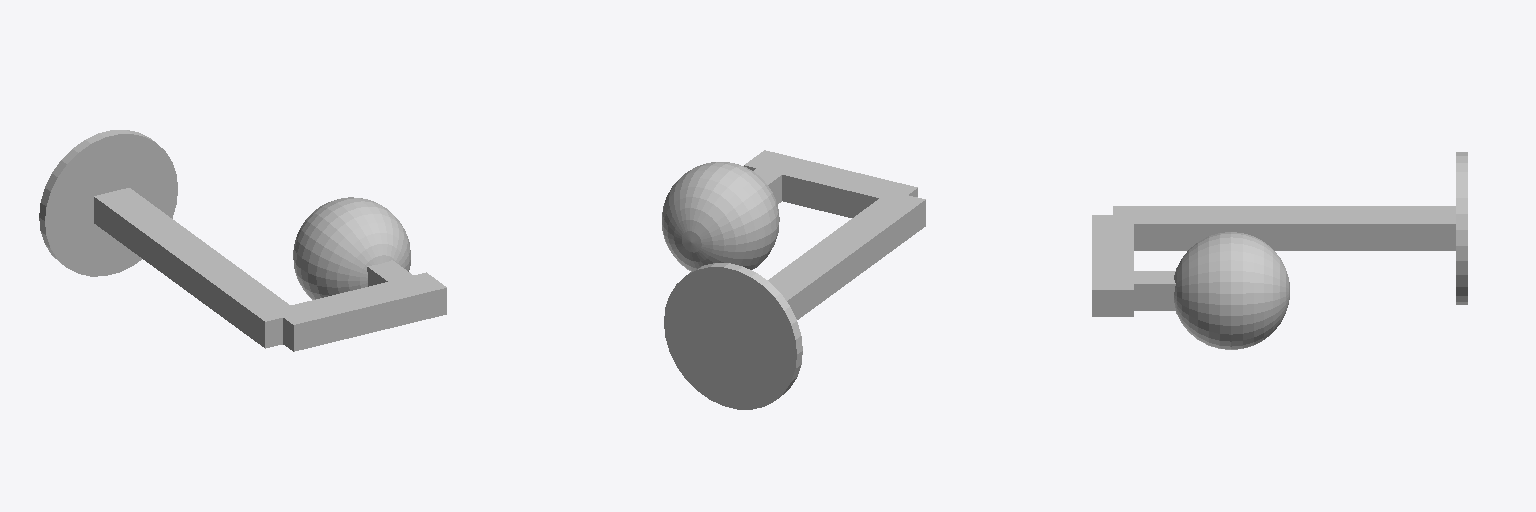
File: felinar.obj
3 renders of one model, left to right at view 1: azimuth 30°, elevation 25°; view 2: azimuth 150°, elevation 25°; view 3: azimuth 270°, elevation 25°, orthographic.
Parts seen in each view (by area): view 1: Sphere01; view 2: Sphere01; view 3: Sphere01.
Boxes of the visible parts, x1=… form: Sphere01: x1=39, y1=130, x2=446, y2=351; Sphere01: x1=662, y1=150, x2=925, y2=409; Sphere01: x1=1092, y1=152, x2=1467, y2=349.
Size of the model in its own units: 48 by 25.86 by 63.5.